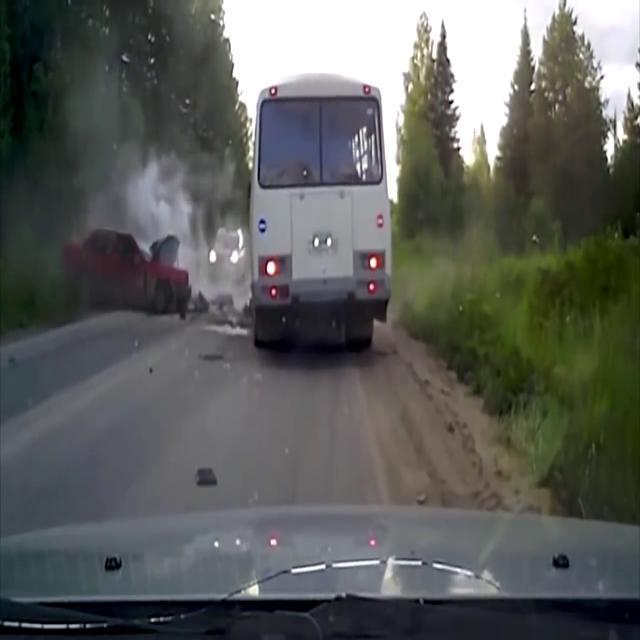accident: (60, 228, 192, 312)
